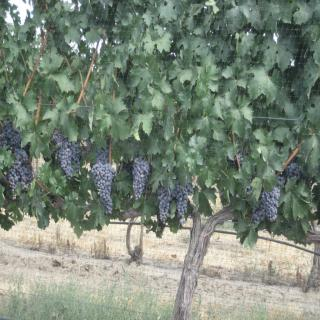Grape: (1, 116, 34, 198), (51, 128, 84, 180), (91, 139, 113, 214), (251, 176, 282, 227), (158, 184, 195, 223), (133, 155, 150, 201), (289, 162, 300, 181), (236, 152, 245, 167)
